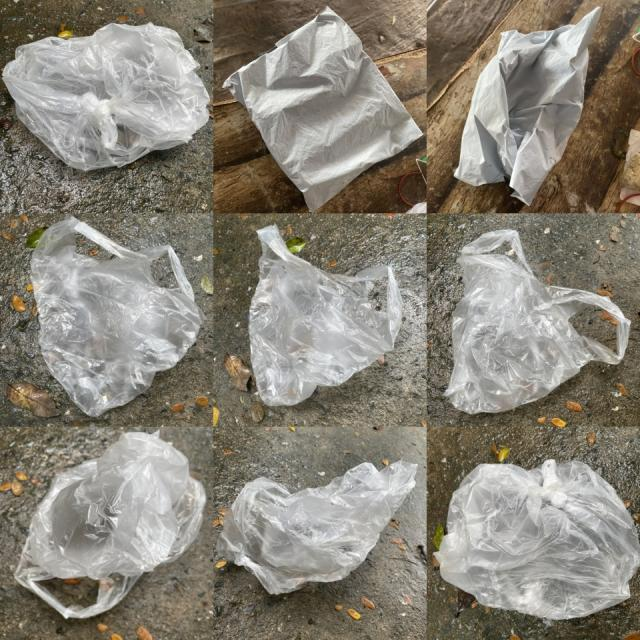Single-layer Plastic: (224, 8, 421, 211), (15, 431, 206, 619), (31, 216, 205, 416), (445, 230, 630, 414), (435, 460, 640, 619), (2, 22, 209, 171), (454, 8, 601, 205), (249, 225, 402, 406), (216, 461, 418, 594)
